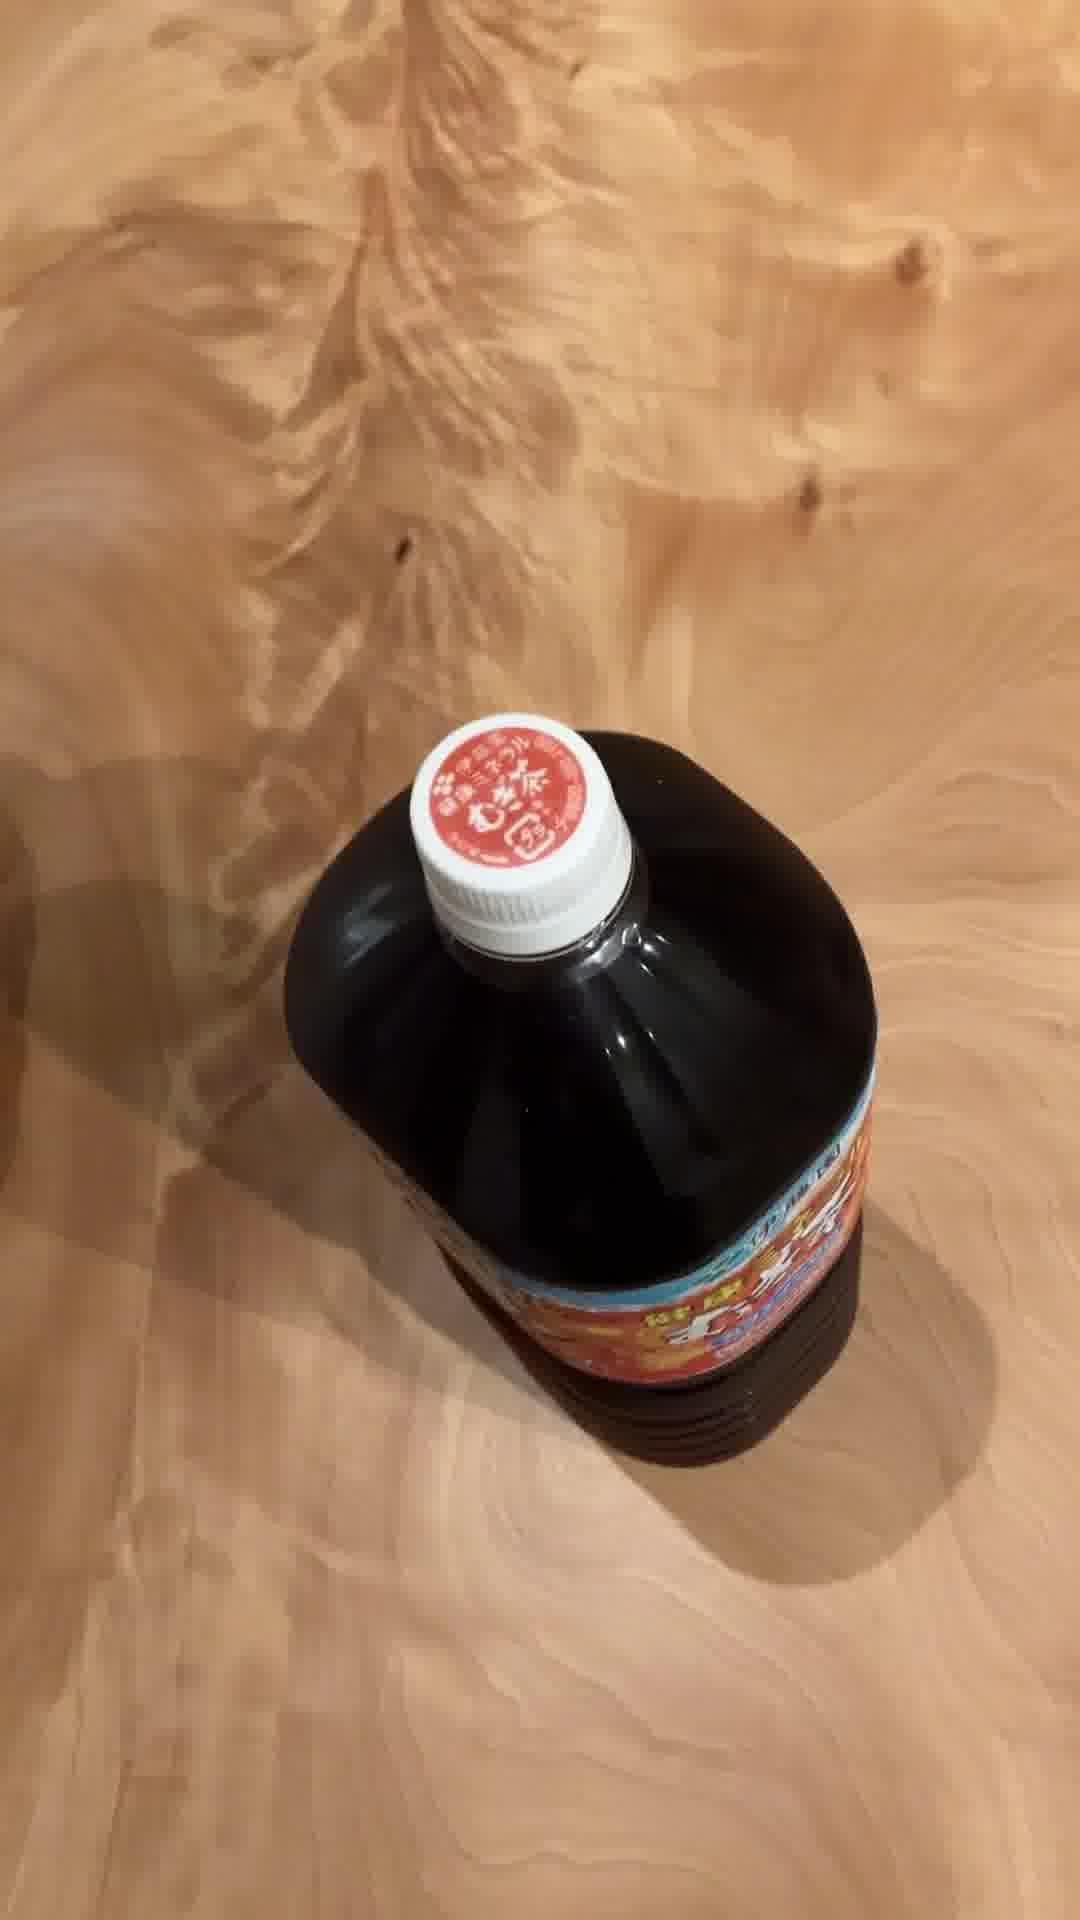BIODEGRADABLE: (279, 708, 882, 1469)
